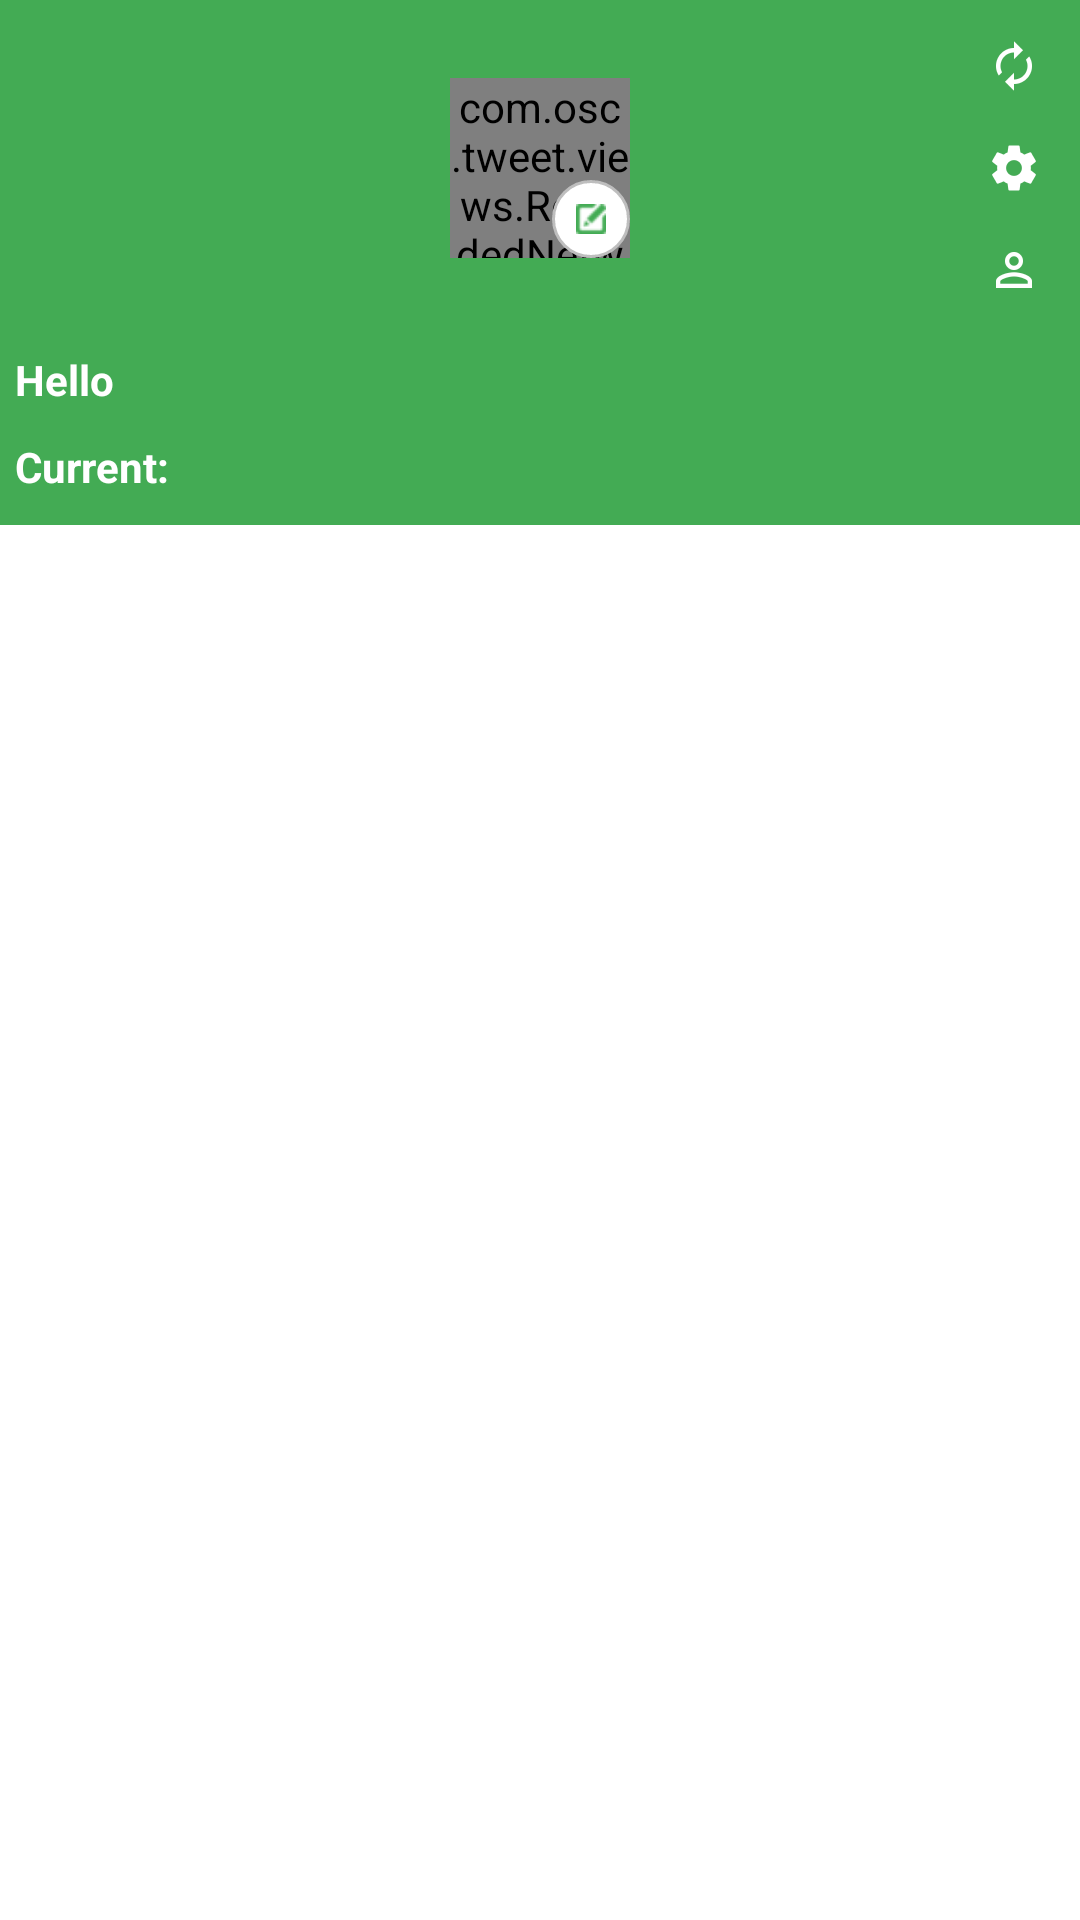

Icon click points for this 1080×1920 phone screenshot, format (x=x, y=y):
edit me: (x=591, y=219)
refresh: (x=1014, y=66)
settings: (x=1014, y=168)
